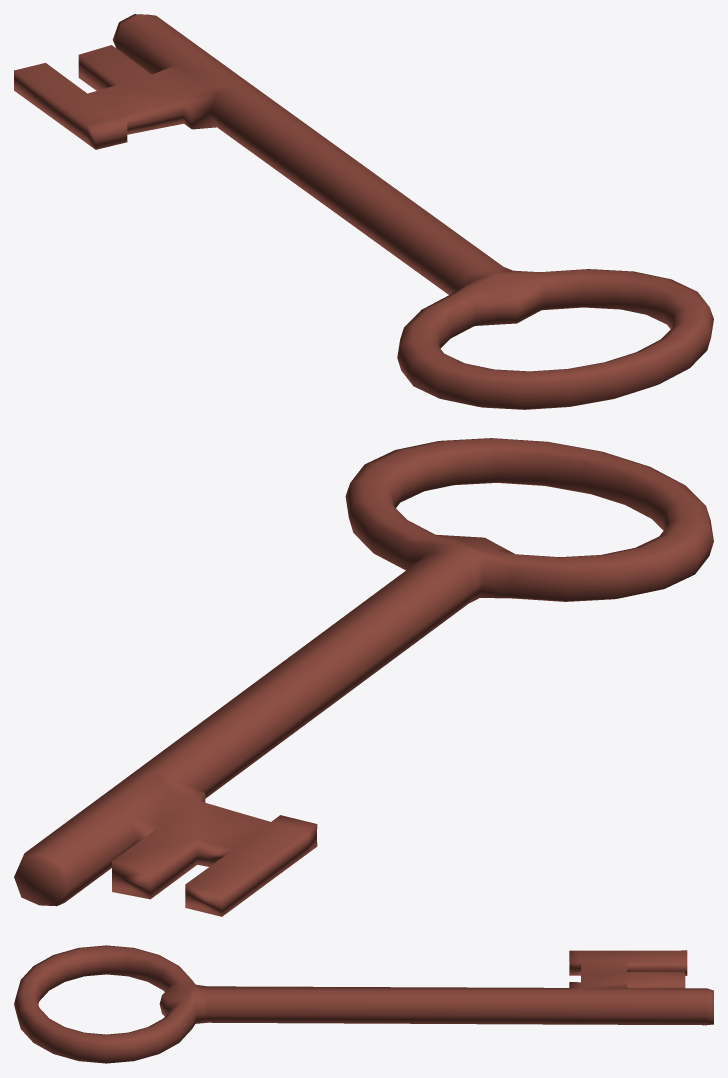
Rendered from Key_01.fbx.
3 views of the same model, one above another, from view 1: azimuth 30°, elevation 25°; view 2: azimuth 150°, elevation 25°; view 3: azimuth 270°, elevation 25° (orthographic). The views are drawn at different scales.
Parts seen in each view (by area): view 1: Key_01; view 2: Key_01; view 3: Key_01.
Part boxes in pixels (x1,y1,x2,y2): Key_01: (14, 14, 713, 409); Key_01: (14, 438, 713, 916); Key_01: (14, 945, 713, 1063).
Size of the model in its own units: 5.7 by 0.8341 by 16.46.
